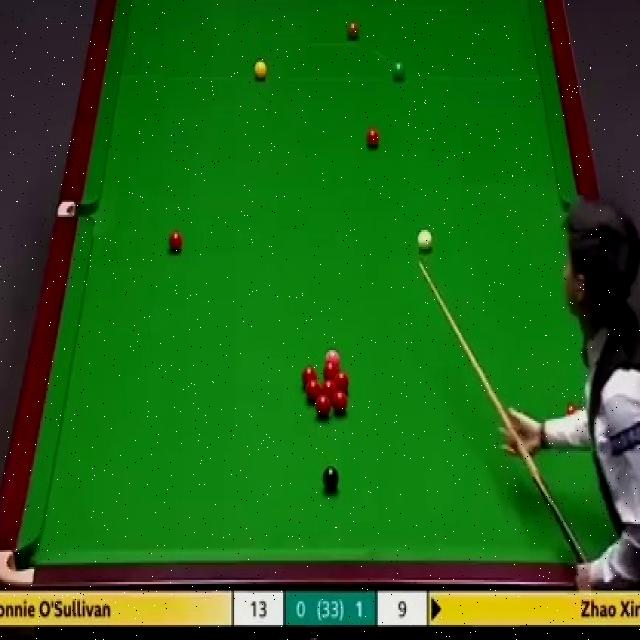black-ball: (322, 465, 341, 490)
brown-ball: (346, 21, 359, 40)
green-ball: (391, 58, 405, 82)
pink-ball: (325, 347, 340, 365)
red-ball: (316, 392, 332, 414), (324, 376, 339, 399), (332, 391, 347, 414), (365, 128, 380, 150), (168, 229, 182, 252), (302, 366, 316, 386), (308, 379, 323, 394), (338, 370, 348, 391), (323, 366, 338, 378)
white-ball: (417, 228, 433, 253)
yellow-ball: (253, 59, 267, 80)
